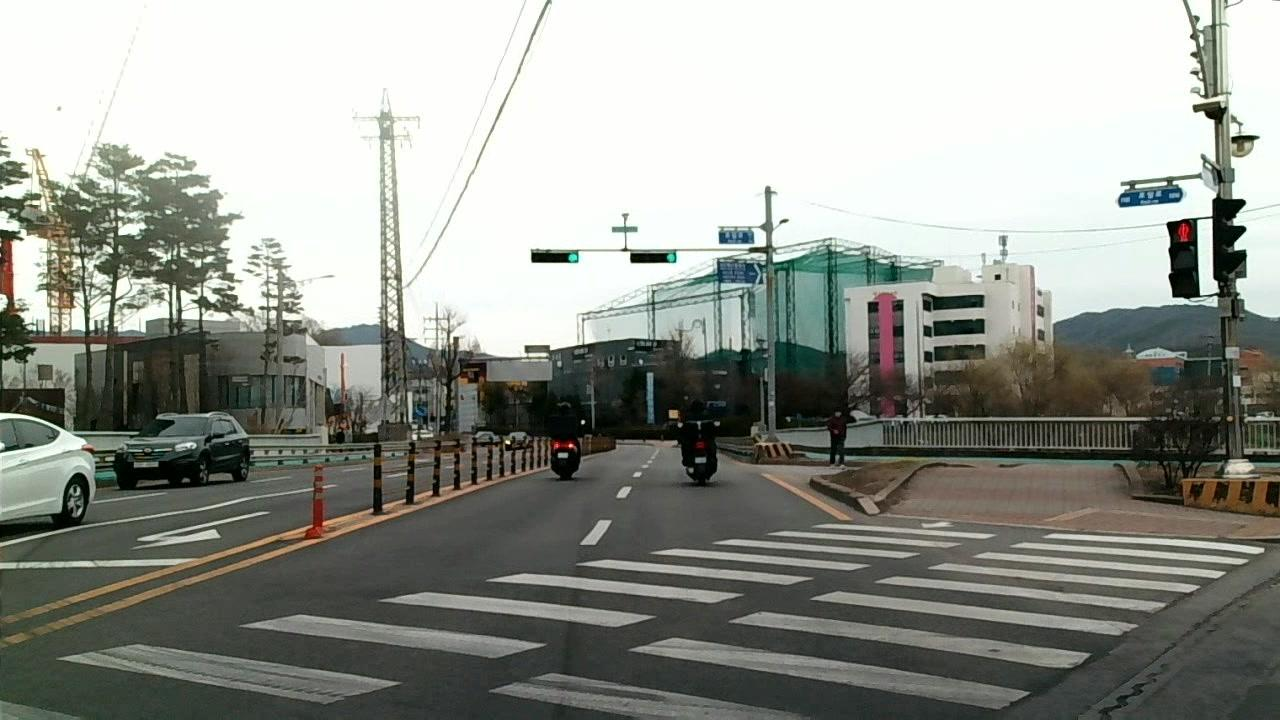banner: (1020, 631, 1219, 720), (1194, 551, 1280, 627)
